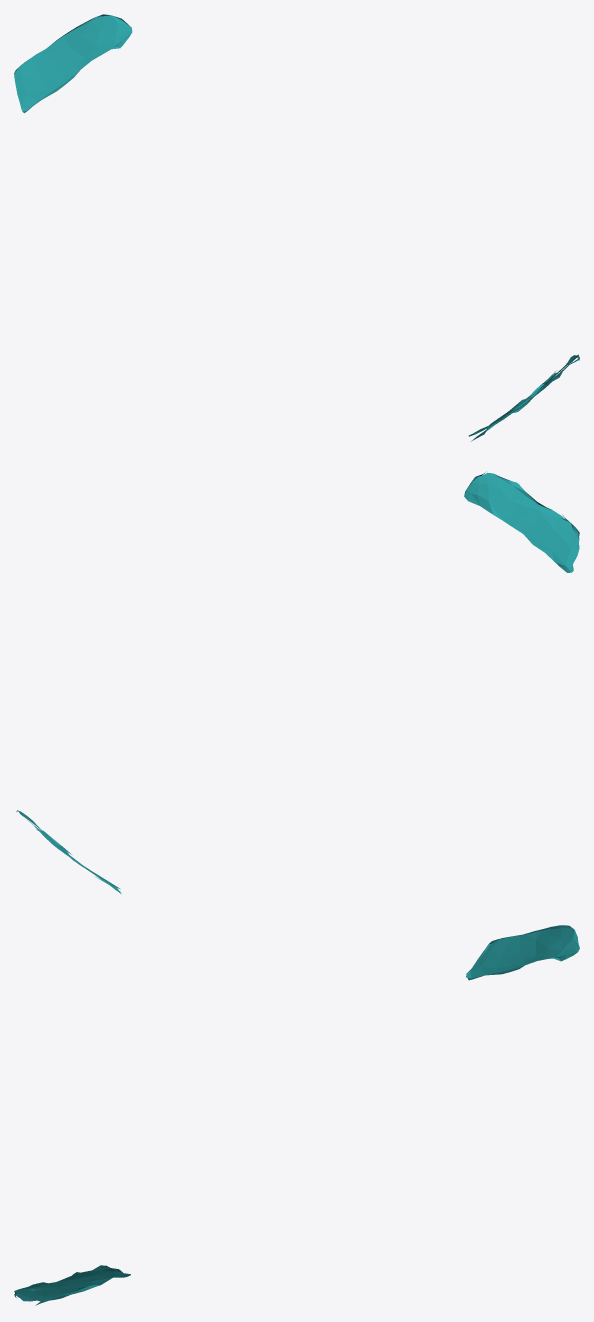
The picture shows the model from 3 angles, top to bottom: view 1: azimuth 30°, elevation 25°; view 2: azimuth 150°, elevation 25°; view 3: azimuth 330°, elevation 25°; orthographic projection.
Parts seen in each view (by area): view 1: 121.obj; view 2: 121.obj; view 3: 121.obj.
Boxes of the visible parts, left/top/right/bottom form: 121.obj: left=14, top=14, right=579, bottom=441; 121.obj: left=16, top=471, right=579, bottom=894; 121.obj: left=14, top=925, right=579, bottom=1305.
Bounding box in the file's own units: 934 × 573 × 6936.
